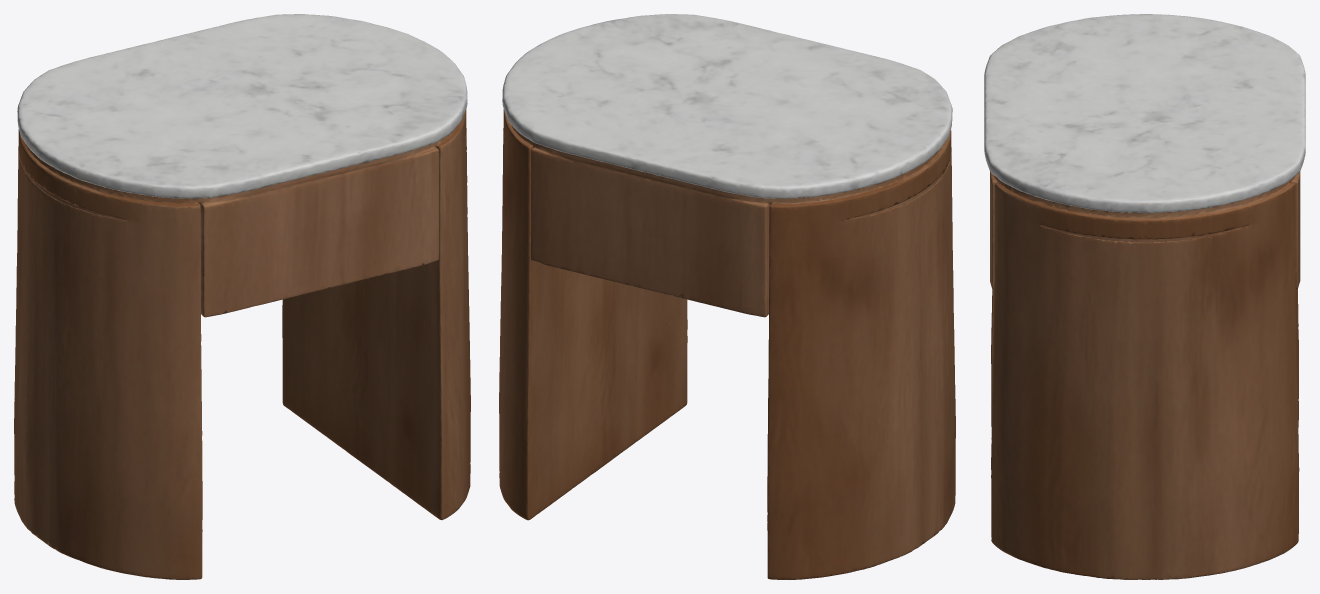
Rendered from modern_and_minimalist_nightstand_nclwup.glb.
The picture shows the model from 3 angles, left to right: view 1: azimuth 30°, elevation 25°; view 2: azimuth 150°, elevation 25°; view 3: azimuth 270°, elevation 25°; orthographic projection. The views are drawn at different scales.
Visible parts, largest first — view 1: world; view 2: world; view 3: world.
Part boxes in pixels (x1,y1,x2,y2): world: (14,14,470,579); world: (499,14,955,579); world: (984,14,1305,579).
Bounding box in the file's own units: 1 × 0.9368 × 0.718.
Materials: 1 (1 with a texture image).
